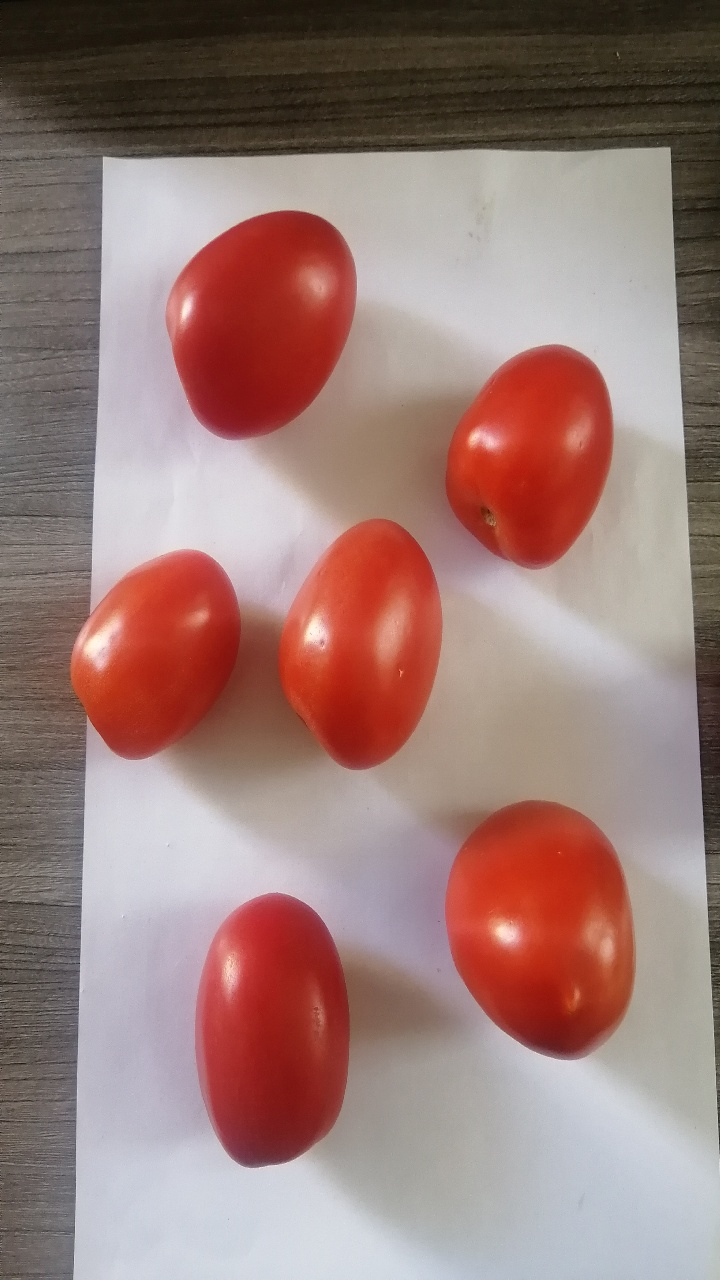tomateRojo: (140, 189, 374, 472), (432, 792, 652, 1080), (178, 866, 364, 1183), (428, 331, 635, 592), (258, 499, 452, 775), (68, 515, 249, 799)
